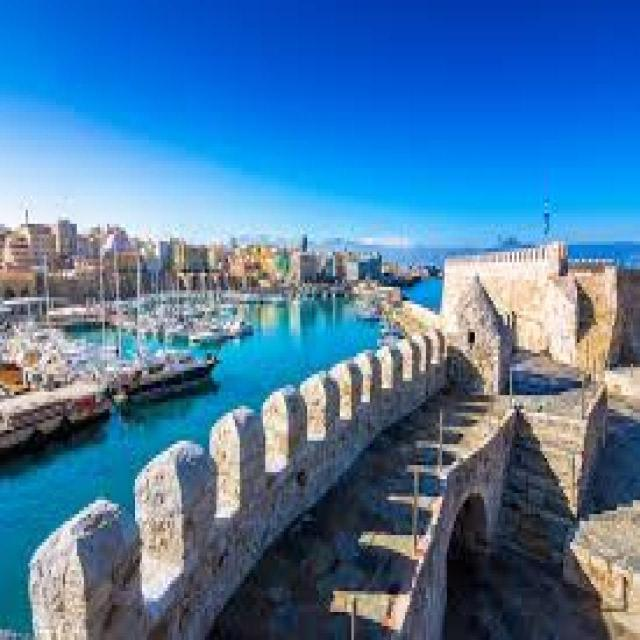Kules: (444, 239, 640, 395)
